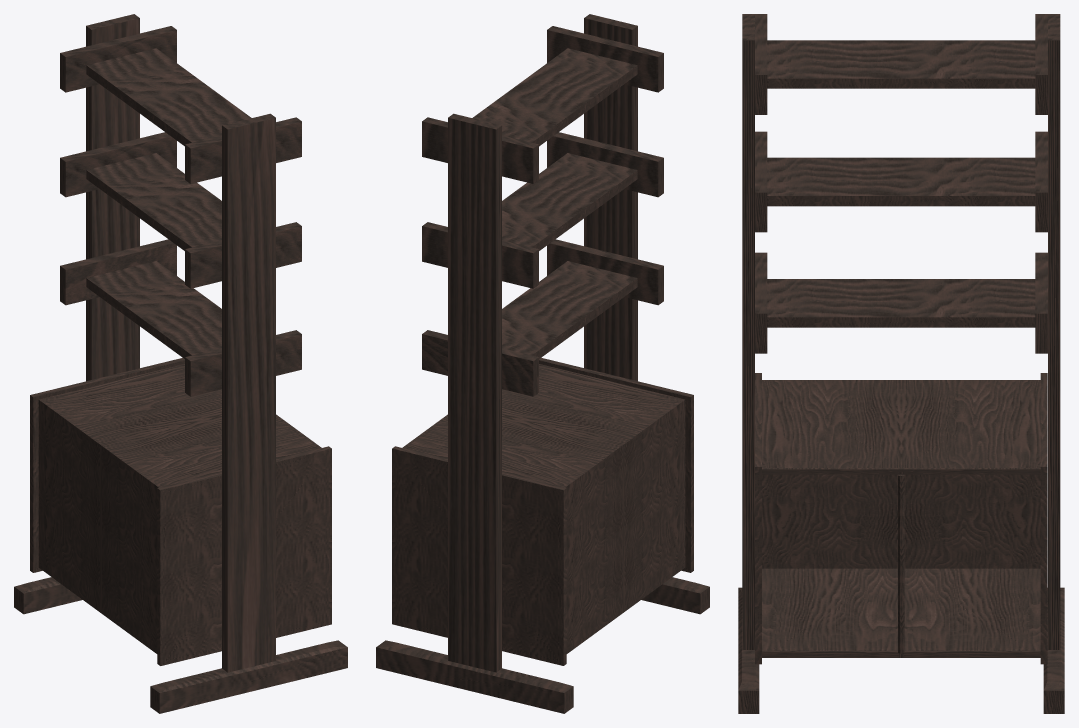
File: wood_cabinet_large.glb
3 renders of one model, left to right at view 1: azimuth 30°, elevation 25°; view 2: azimuth 150°, elevation 25°; view 3: azimuth 270°, elevation 25°, orthographic. The views are drawn at different scales.
Parts seen in each view (by area): view 1: Cube.092; view 2: Cube.092; view 3: Cube.092.
Boxes of the visible parts, left/top/right/bottom form: Cube.092: left=14, top=14, right=347, bottom=713; Cube.092: left=376, top=14, right=709, bottom=713; Cube.092: left=738, top=14, right=1064, bottom=713.
Bounding box in the file's own units: 0.6476 × 1.86 × 0.8671.
1 material, 1 textured.
